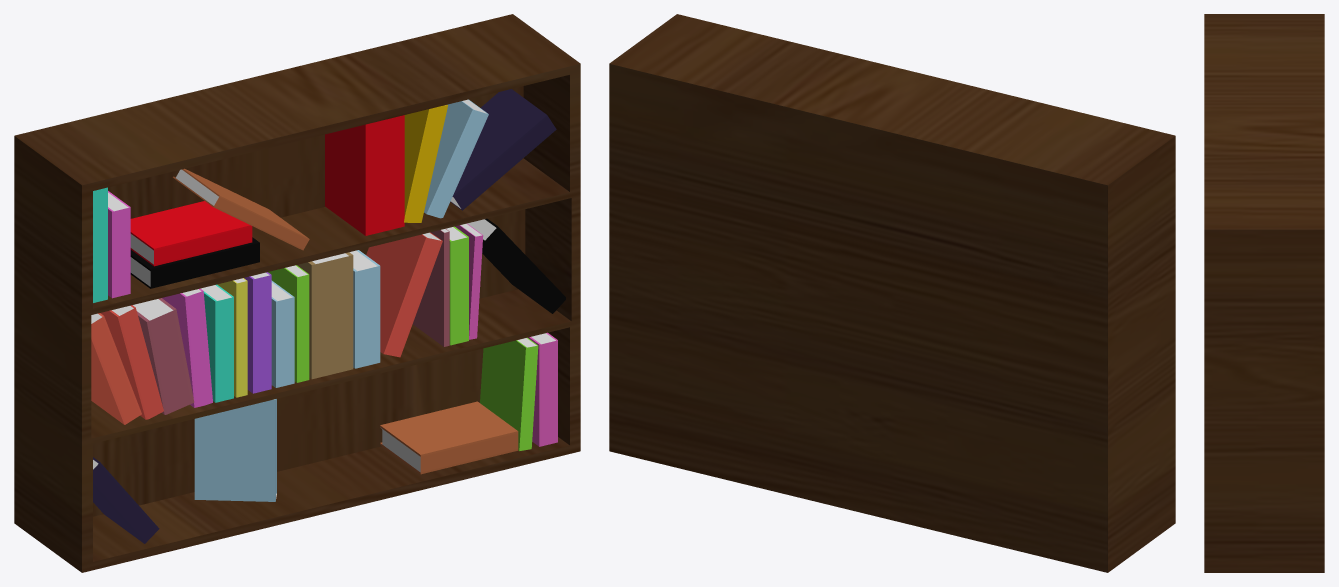
Rendered from Bibliothèque1fbx.fbx.
3 renders of one model, left to right at view 1: azimuth 30°, elevation 25°; view 2: azimuth 150°, elevation 25°; view 3: azimuth 270°, elevation 25°, orthographic. The views are drawn at different scales.
Parts seen in each view (by area): view 1: Bibliothèque1; view 2: Bibliothèque1; view 3: Bibliothèque1.
Part boxes in pixels (<box>): Bibliothèque1: <box>14,14,580,572</box>; Bibliothèque1: <box>609,14,1175,572</box>; Bibliothèque1: <box>1204,14,1324,572</box>.
Bounding box in the file's own units: 1144 × 850 × 270.
